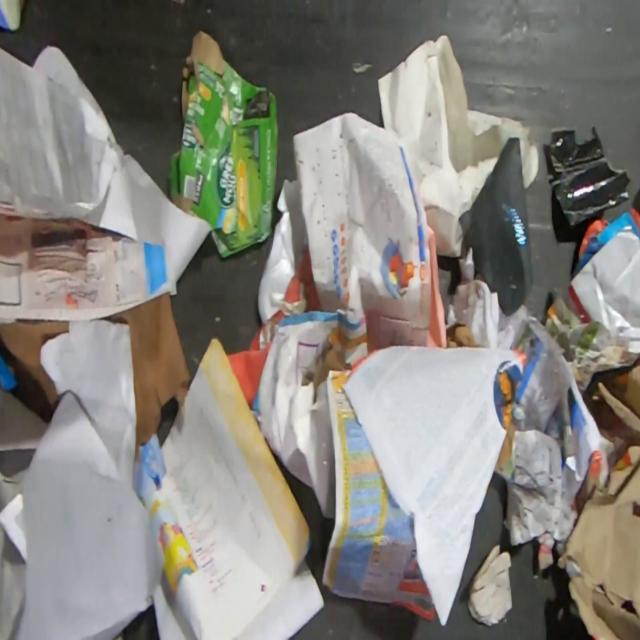cardboard: (166, 28, 279, 260), (556, 358, 640, 640), (95, 291, 193, 461), (542, 122, 632, 231), (0, 319, 69, 416), (465, 543, 514, 627), (313, 346, 346, 387), (445, 320, 484, 349)
soft_plastic: (456, 135, 536, 320), (256, 175, 309, 325)
